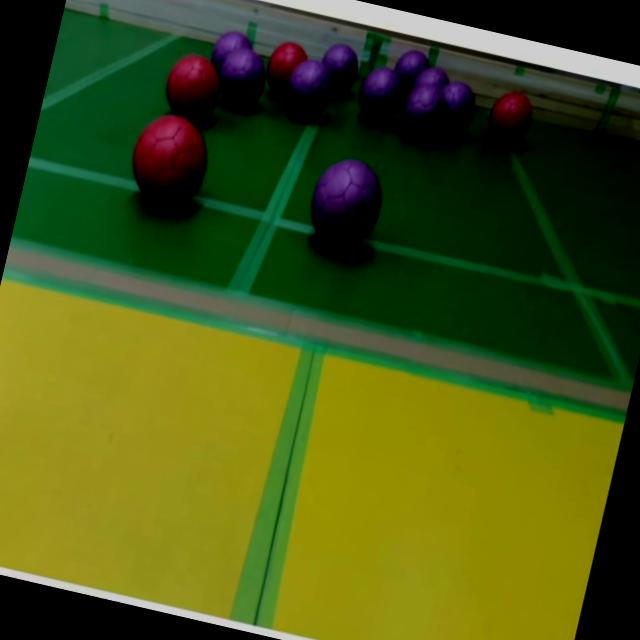purple_ball: (304, 150, 392, 257), (217, 48, 270, 119), (352, 61, 406, 130), (286, 58, 337, 125), (396, 80, 452, 140), (316, 42, 364, 98), (436, 79, 481, 135), (208, 26, 256, 70), (391, 46, 432, 88), (412, 66, 448, 96)
red_ball: (126, 112, 212, 218), (158, 53, 224, 124), (483, 89, 535, 150), (263, 35, 299, 93)
